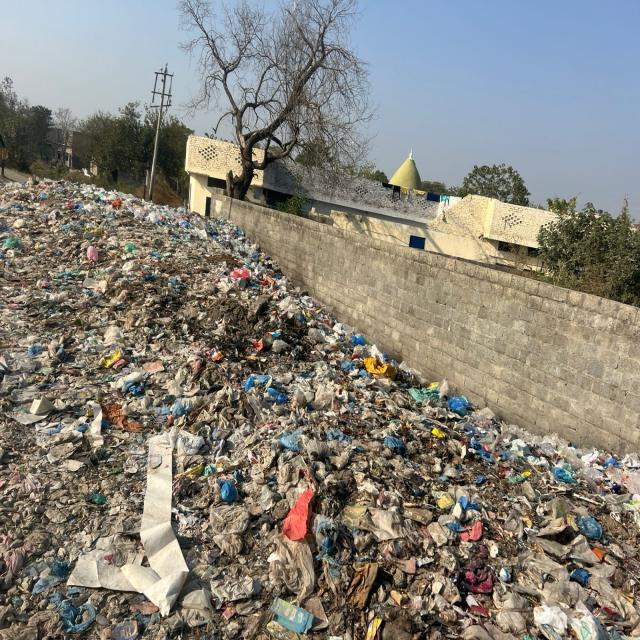garbage: (1, 359, 628, 640), (3, 201, 241, 359), (246, 231, 411, 357)
